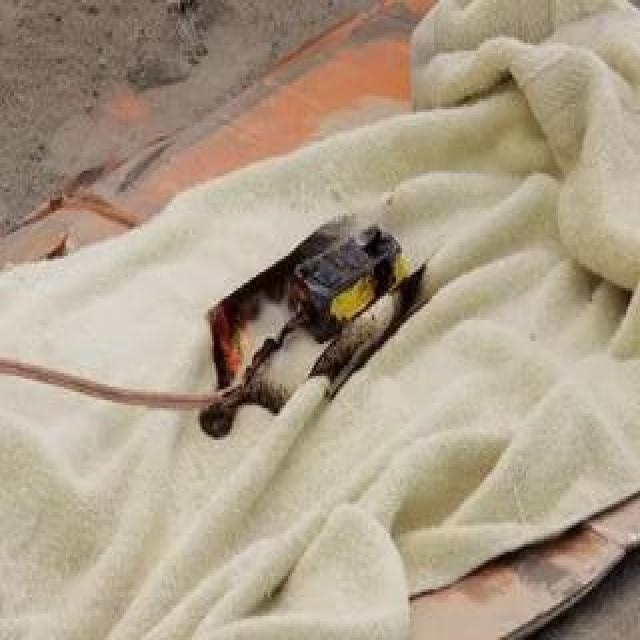Fire: (203, 294, 259, 398)
